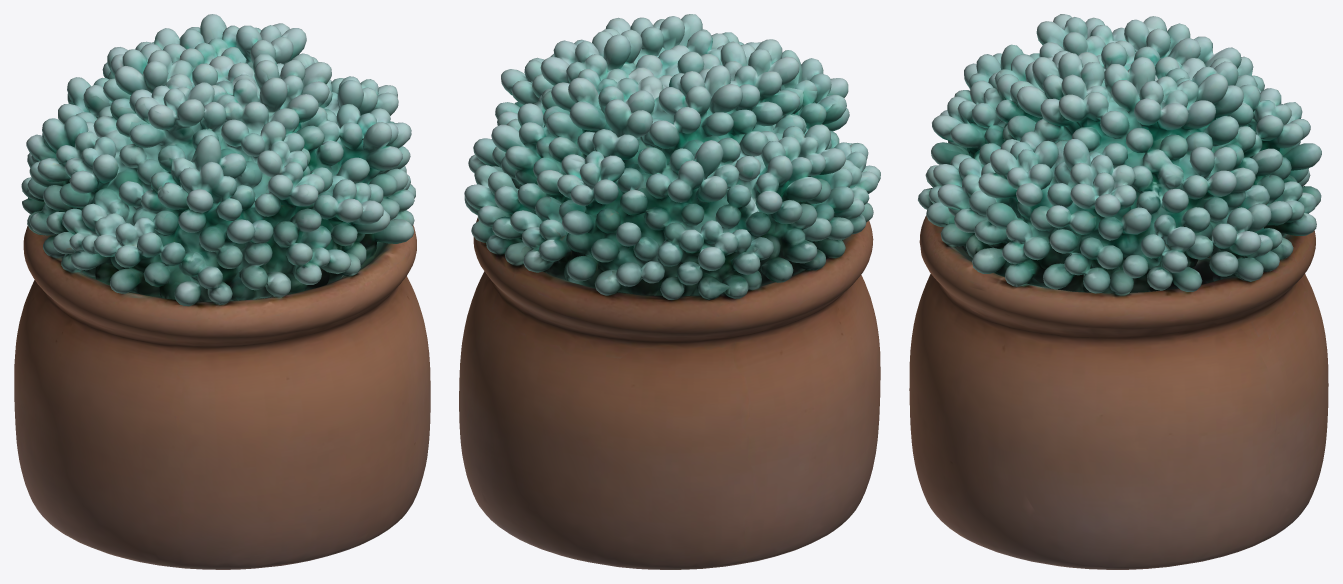
The picture shows the model from 3 angles, left to right: view 1: azimuth 30°, elevation 25°; view 2: azimuth 150°, elevation 25°; view 3: azimuth 270°, elevation 25°; orthographic projection.
Visible parts, largest first — view 1: node_0; view 2: node_0; view 3: node_0.
Part boxes in pixels (left/top/right/bottom): node_0: left=14, top=14, right=430, bottom=569; node_0: left=459, top=14, right=880, bottom=569; node_0: left=909, top=14, right=1328, bottom=569.
Bounding box in the file's own units: 0.7991 × 0.9493 × 0.8004.
Materials: 1 (1 with a texture image).
